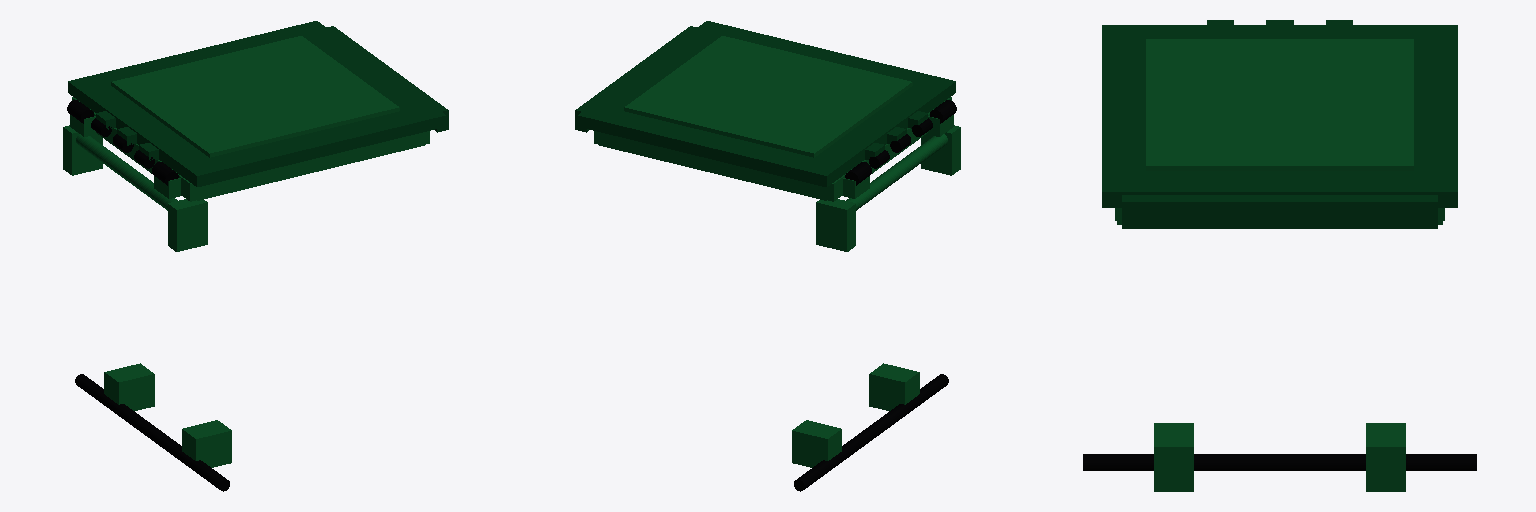
URDF robot description (wheelie_bin):
<robot name="wheelie_bin">
  <link name="bin_body">
    <visual name="body_shell">
      <geometry>
        <mesh filename="assets/meshes/open_tapered_bin_body.obj" />
        </geometry>
      <material name="molded_green_plastic">
        <color rgba="0.06 0.32 0.16 1" />
        </material>
      </visual>
    <visual name="rear_rim">
      <origin xyz="-0.356 0 1.04" rpy="0 0 0" />
      <geometry>
        <box size="0.058 0.66 0.055" />
        </geometry>
      <material name="molded_green_plastic">
        <color rgba="0.06 0.32 0.16 1" />
        </material>
      </visual>
    <visual name="front_rim">
      <origin xyz="0.356 0 1.04" rpy="0 0 0" />
      <geometry>
        <box size="0.058 0.66 0.055" />
        </geometry>
      <material name="molded_green_plastic">
        <color rgba="0.06 0.32 0.16 1" />
        </material>
      </visual>
    <visual name="rim_side_0">
      <origin xyz="0 -0.306 1.04" rpy="0 0 0" />
      <geometry>
        <box size="0.73 0.058 0.055" />
        </geometry>
      <material name="molded_green_plastic">
        <color rgba="0.06 0.32 0.16 1" />
        </material>
      </visual>
    <visual name="rim_side_1">
      <origin xyz="0 0.306 1.04" rpy="0 0 0" />
      <geometry>
        <box size="0.73 0.058 0.055" />
        </geometry>
      <material name="molded_green_plastic">
        <color rgba="0.06 0.32 0.16 1" />
        </material>
      </visual>
    <visual name="rear_axle">
      <origin xyz="-0.315 0 0.155" rpy="-1.5708 0 0" />
      <geometry>
        <cylinder radius="0.018" length="0.8" />
        </geometry>
      <material name="blackened_steel">
        <color rgba="0.03 0.03 0.035 1" />
        </material>
      </visual>
    <visual name="axle_mount_0">
      <origin xyz="-0.265 -0.215 0.19" rpy="0 0 0" />
      <geometry>
        <box size="0.115 0.08 0.1" />
        </geometry>
      <material name="molded_green_plastic">
        <color rgba="0.06 0.32 0.16 1" />
        </material>
      </visual>
    <visual name="axle_mount_1">
      <origin xyz="-0.265 0.215 0.19" rpy="0 0 0" />
      <geometry>
        <box size="0.115 0.08 0.1" />
        </geometry>
      <material name="molded_green_plastic">
        <color rgba="0.06 0.32 0.16 1" />
        </material>
      </visual>
    <visual name="hinge_barrel_0">
      <origin xyz="-0.41 -0.235 1.065" rpy="-1.5708 0 0" />
      <geometry>
        <cylinder radius="0.022" length="0.075" />
        </geometry>
      <material name="blackened_steel">
        <color rgba="0.03 0.03 0.035 1" />
        </material>
      </visual>
    <visual name="hinge_bracket_0">
      <origin xyz="-0.402 -0.235 1.035" rpy="0 0 0" />
      <geometry>
        <box size="0.04 0.082 0.055" />
        </geometry>
      <material name="molded_green_plastic">
        <color rgba="0.06 0.32 0.16 1" />
        </material>
      </visual>
    <visual name="hinge_barrel_1">
      <origin xyz="-0.41 0.235 1.065" rpy="-1.5708 0 0" />
      <geometry>
        <cylinder radius="0.022" length="0.075" />
        </geometry>
      <material name="blackened_steel">
        <color rgba="0.03 0.03 0.035 1" />
        </material>
      </visual>
    <visual name="hinge_bracket_1">
      <origin xyz="-0.402 0.235 1.035" rpy="0 0 0" />
      <geometry>
        <box size="0.04 0.082 0.055" />
        </geometry>
      <material name="molded_green_plastic">
        <color rgba="0.06 0.32 0.16 1" />
        </material>
      </visual>
    <visual name="rear_handle">
      <origin xyz="-0.388 0 0.965" rpy="-1.5708 0 0" />
      <geometry>
        <cylinder radius="0.02" length="0.59" />
        </geometry>
      <material name="molded_green_plastic">
        <color rgba="0.06 0.32 0.16 1" />
        </material>
      </visual>
    <visual name="handle_post_0">
      <origin xyz="-0.37 -0.29 0.925" rpy="0 0 0" />
      <geometry>
        <box size="0.1 0.05 0.13" />
        </geometry>
      <material name="molded_green_plastic">
        <color rgba="0.06 0.32 0.16 1" />
        </material>
      </visual>
    <visual name="handle_post_1">
      <origin xyz="-0.37 0.29 0.925" rpy="0 0 0" />
      <geometry>
        <box size="0.1 0.05 0.13" />
        </geometry>
      <material name="molded_green_plastic">
        <color rgba="0.06 0.32 0.16 1" />
        </material>
      </visual>
    </link>
  <link name="lid">
    <visual name="lid_panel">
      <origin xyz="0.43 0 0.02" rpy="0 0 0" />
      <geometry>
        <box size="0.8 0.72 0.035" />
        </geometry>
      <material name="darker_lid_plastic">
        <color rgba="0.04 0.24 0.12 1" />
        </material>
      </visual>
    <visual name="raised_lid_panel">
      <origin xyz="0.425 0 0.043" rpy="0 0 0" />
      <geometry>
        <box size="0.61 0.545 0.014" />
        </geometry>
      <material name="molded_green_plastic">
        <color rgba="0.06 0.32 0.16 1" />
        </material>
      </visual>
    <visual name="front_lip">
      <origin xyz="0.842 0 0" rpy="0 0 0" />
      <geometry>
        <box size="0.036 0.64 0.06" />
        </geometry>
      <material name="darker_lid_plastic">
        <color rgba="0.04 0.24 0.12 1" />
        </material>
      </visual>
    <visual name="lid_knuckle_0">
      <origin xyz="0 -0.12 0" rpy="-1.5708 0 0" />
      <geometry>
        <cylinder radius="0.018" length="0.055" />
        </geometry>
      <material name="blackened_steel">
        <color rgba="0.03 0.03 0.035 1" />
        </material>
      </visual>
    <visual name="lid_hinge_tab_0">
      <origin xyz="0.034 -0.12 0.018" rpy="0 0 0" />
      <geometry>
        <box size="0.074 0.055 0.03" />
        </geometry>
      <material name="darker_lid_plastic">
        <color rgba="0.04 0.24 0.12 1" />
        </material>
      </visual>
    <visual name="lid_knuckle_1">
      <origin xyz="0 0 0" rpy="-1.5708 0 0" />
      <geometry>
        <cylinder radius="0.018" length="0.055" />
        </geometry>
      <material name="blackened_steel">
        <color rgba="0.03 0.03 0.035 1" />
        </material>
      </visual>
    <visual name="lid_hinge_tab_1">
      <origin xyz="0.034 0 0.018" rpy="0 0 0" />
      <geometry>
        <box size="0.074 0.055 0.03" />
        </geometry>
      <material name="darker_lid_plastic">
        <color rgba="0.04 0.24 0.12 1" />
        </material>
      </visual>
    <visual name="lid_knuckle_2">
      <origin xyz="0 0.12 0" rpy="-1.5708 0 0" />
      <geometry>
        <cylinder radius="0.018" length="0.055" />
        </geometry>
      <material name="blackened_steel">
        <color rgba="0.03 0.03 0.035 1" />
        </material>
      </visual>
    <visual name="lid_hinge_tab_2">
      <origin xyz="0.034 0.12 0.018" rpy="0 0 0" />
      <geometry>
        <box size="0.074 0.055 0.03" />
        </geometry>
      <material name="darker_lid_plastic">
        <color rgba="0.04 0.24 0.12 1" />
        </material>
      </visual>
    </link>
  <link name="wheel_0">
    <visual name="tire">
      <origin xyz="0 0 0" rpy="0 0 1.5708" />
      <geometry>
        <mesh filename="assets/meshes/wheel_0_tire.obj" />
        </geometry>
      <material name="black_rubber">
        <color rgba="0.01 0.01 0.01 1" />
        </material>
      </visual>
    <visual name="hub">
      <origin xyz="0 0 0" rpy="0 0 1.5708" />
      <geometry>
        <mesh filename="assets/meshes/wheel_0_hub.obj" />
        </geometry>
      <material name="grey_wheel_hub">
        <color rgba="0.42 0.43 0.4 1" />
        </material>
      </visual>
    </link>
  <link name="wheel_1">
    <visual name="tire">
      <origin xyz="0 0 0" rpy="0 0 1.5708" />
      <geometry>
        <mesh filename="assets/meshes/wheel_1_tire.obj" />
        </geometry>
      <material name="black_rubber">
        <color rgba="0.01 0.01 0.01 1" />
        </material>
      </visual>
    <visual name="hub">
      <origin xyz="0 0 0" rpy="0 0 1.5708" />
      <geometry>
        <mesh filename="assets/meshes/wheel_1_hub.obj" />
        </geometry>
      <material name="grey_wheel_hub">
        <color rgba="0.42 0.43 0.4 1" />
        </material>
      </visual>
    </link>
  <joint name="bin_body_to_wheel_0" type="continuous">
    <origin xyz="-0.315 -0.365 0.155" rpy="0 0 0" />
    <parent link="bin_body" />
    <child link="wheel_0" />
    <axis xyz="0 1 0" />
    <limit effort="4" velocity="20" />
    </joint>
  <joint name="bin_body_to_wheel_1" type="continuous">
    <origin xyz="-0.315 0.365 0.155" rpy="0 0 0" />
    <parent link="bin_body" />
    <child link="wheel_1" />
    <axis xyz="0 1 0" />
    <limit effort="4" velocity="20" />
    </joint>
  <joint name="bin_body_to_lid" type="revolute">
    <origin xyz="-0.41 0 1.065" rpy="0 0 0" />
    <parent link="bin_body" />
    <child link="lid" />
    <axis xyz="0 -1 0" />
    <limit effort="12" velocity="2" lower="0" upper="1.85" />
    </joint>
  </robot>

--- What the picture shows (computed from the rendered views, not written in the file) ---
The picture shows the robot from 3 angles, left to right: view 1: azimuth 30°, elevation 25°; view 2: azimuth 150°, elevation 25°; view 3: azimuth 270°, elevation 25°; orthographic projection.
Model wheelie_bin with 4 links and 3 joints (1 revolute, 2 continuous), rooted at bin_body, posed all joints at 0.
Visible links, largest first — view 1: lid, bin_body; view 2: lid, bin_body; view 3: lid, bin_body.
Boxes of the visible links, bbox=[...] form: lid: bbox=[68, 21, 448, 186]; bin_body: bbox=[63, 97, 429, 491]; lid: bbox=[575, 21, 955, 186]; bin_body: bbox=[594, 97, 960, 491]; lid: bbox=[1102, 20, 1457, 228]; bin_body: bbox=[1083, 208, 1476, 491].
Size in the robot's own frame: 0.882 by 0.8 by 0.978 metres.
0 mesh visuals loaded from 5 distinct referenced files (none loaded); not drawn: 1 (reference not matched to a file when rendering), 4 (file found but could not be loaded).
